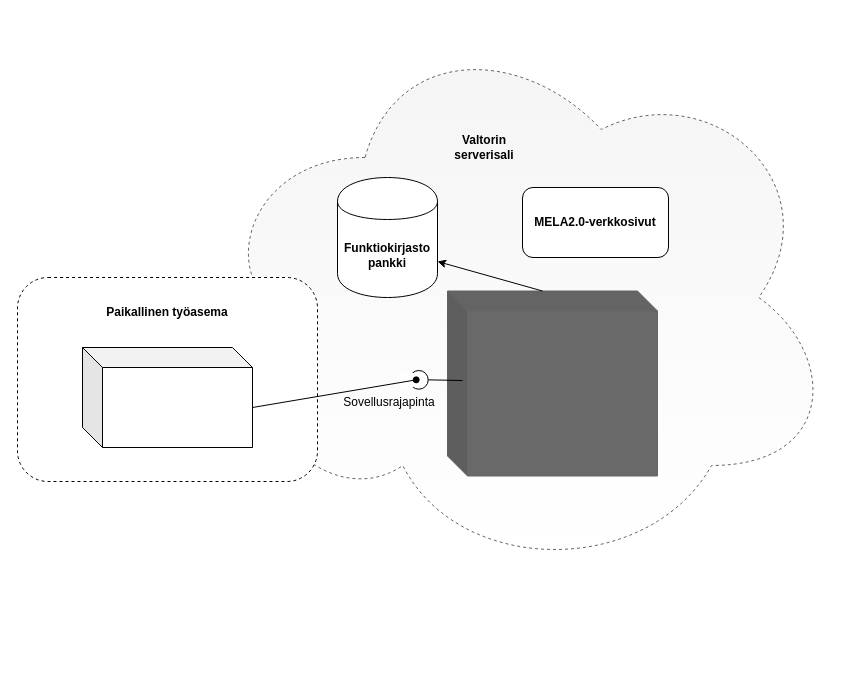
The diagram is 855 pixels wide and 696 high, and some of its shapes have lost their labels. Each missing label, with the centre of its shape:
"Käyttöliittymä (Asiakassovellus)" goes at point 167,397.
"MELA2.0" goes at point 552,383.
